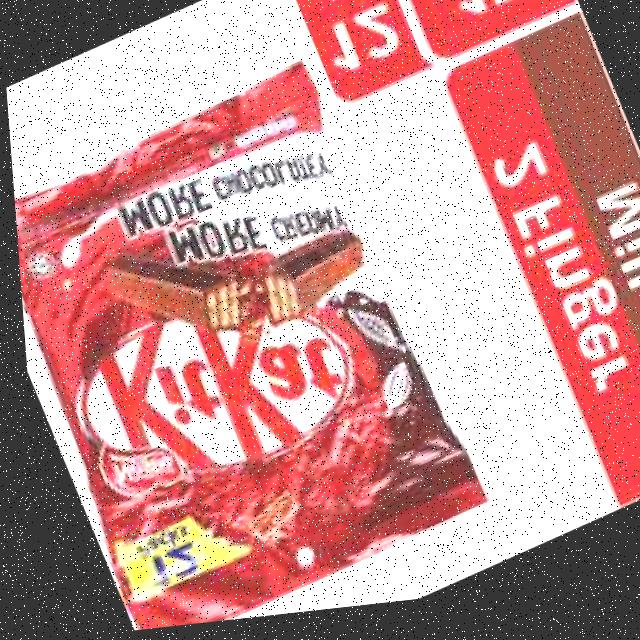kitkat: (6, 57, 489, 640)
